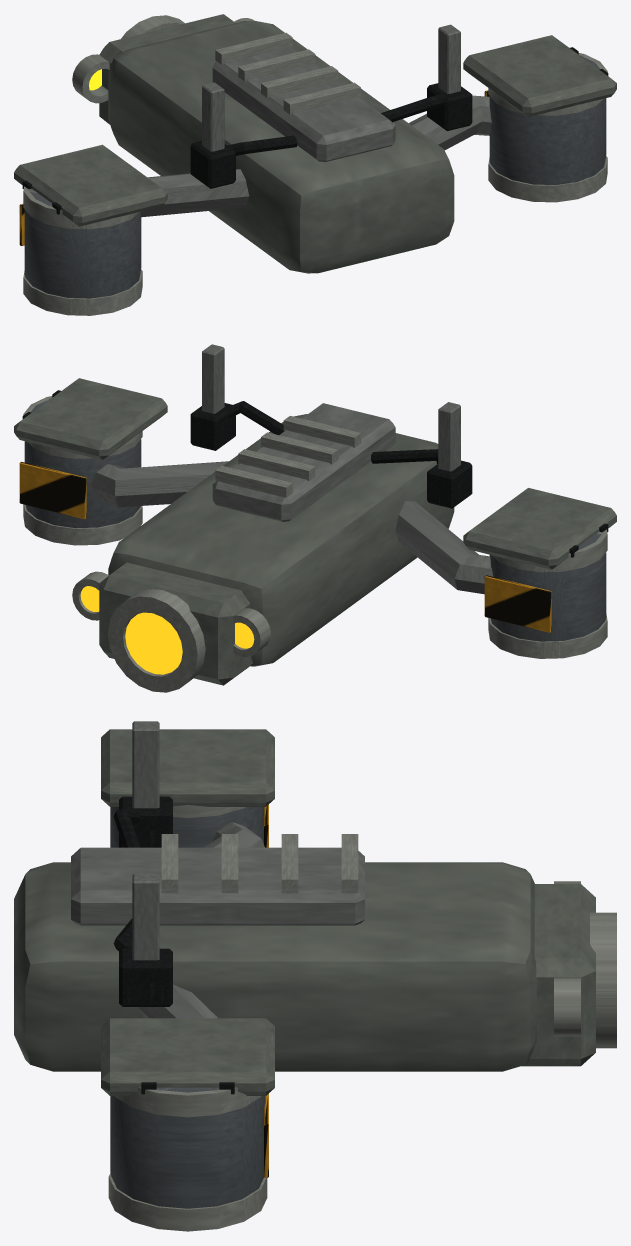
File: scout_drone.glb
3 renders of one model, top to bottom at view 1: azimuth 30°, elevation 25°; view 2: azimuth 150°, elevation 25°; view 3: azimuth 270°, elevation 25°, orthographic. The views are drawn at different scales.
Visible parts, largest first — view 1: ChassisMesh, PropulsionLeftMesh, PropulsionRightMesh, OpticsMesh; view 2: ChassisMesh, PropulsionLeftMesh, OpticsMesh, PropulsionRightMesh; view 3: ChassisMesh, PropulsionRightMesh, PropulsionLeftMesh, OpticsMesh.
Part boxes in pixels (x1=…): ChassisMesh: x1=108, y1=20, x2=491, y2=273; PropulsionLeftMesh: x1=14, y1=144, x2=167, y2=315; PropulsionRightMesh: x1=463, y1=35, x2=616, y2=202; OpticsMesh: x1=72, y1=14, x2=253, y2=124; ChassisMesh: x1=90, y1=344, x2=493, y2=666; PropulsionLeftMesh: x1=463, y1=488, x2=616, y2=658; OpticsMesh: x1=72, y1=562, x2=270, y2=692; PropulsionRightMesh: x1=14, y1=378, x2=167, y2=545; ChassisMesh: x1=14, y1=721, x2=536, y2=1071; PropulsionRightMesh: x1=101, y1=1018, x2=274, y2=1231; PropulsionLeftMesh: x1=101, y1=729, x2=274, y2=847; OpticsMesh: x1=521, y1=881, x2=616, y2=1066.
Bounding box in the file's own units: 1.44 × 0.455 × 1.
3 materials, 1 textured.
